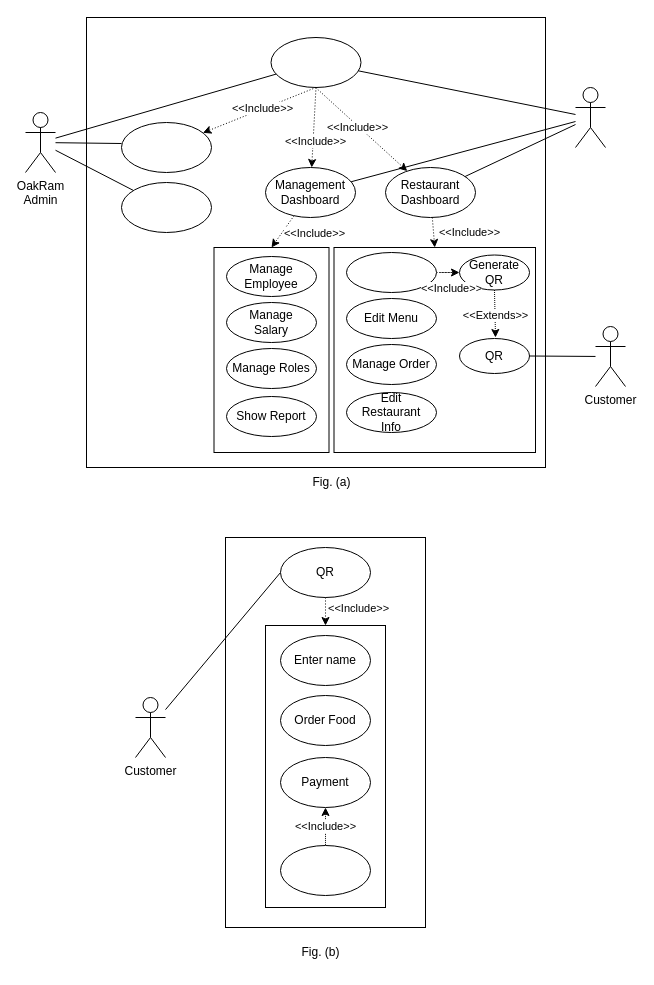
Image size: 654x985. Some labels were removed from this diagram. Here are the shapes that lost their labels. From the top down, the centre of each, then its label:
[315,62]: Login
[590,117]: Restaurant Admin
[166,147]: Manage Restaurants
[166,207]: Logout
[391,272]: Manage Table
[325,870]: Reorder
